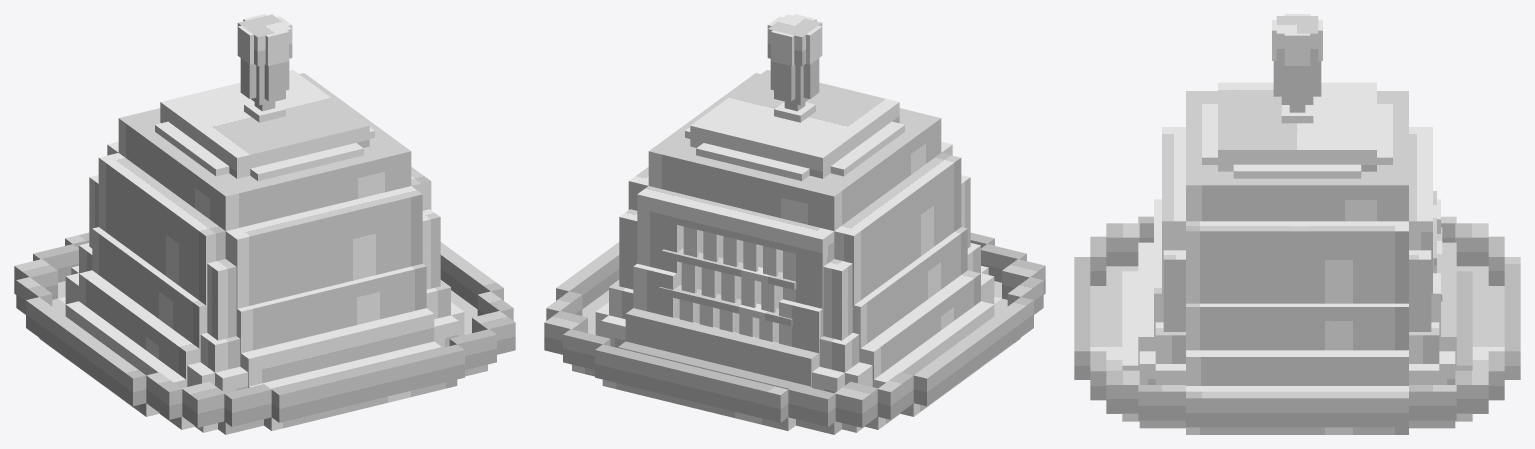
Rendered from chap.gltf.
The picture shows the model from 3 angles, left to right: view 1: azimuth 30°, elevation 25°; view 2: azimuth 150°, elevation 25°; view 3: azimuth 270°, elevation 25°; orthographic projection. The views are drawn at different scales.
Visible parts, largest first — view 1: cube (×41); view 2: cube (×47); view 3: cube (×48).
Boxes of the visible parts, x1,y1,x2,y2 form: cube (×41): [14, 14, 515, 430]; cube (×47): [544, 14, 1045, 430]; cube (×48): [1074, 16, 1520, 434].
Bounding box in the file's own units: 1.75 × 1.4 × 1.75.
3 materials, 3 textured.
